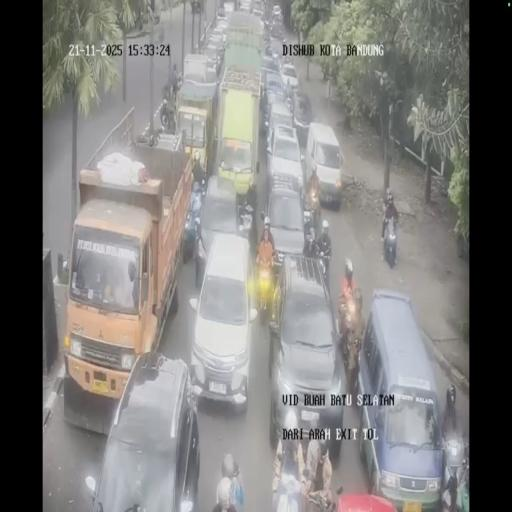3: (64, 130, 192, 418), (212, 66, 262, 208), (175, 69, 217, 176), (221, 8, 263, 79)
car: (356, 293, 442, 506), (268, 255, 344, 451), (196, 174, 244, 283), (263, 188, 308, 272), (305, 122, 344, 209), (266, 144, 304, 200), (266, 100, 297, 154), (292, 89, 314, 146), (203, 41, 224, 77), (280, 60, 298, 94), (260, 52, 280, 78), (270, 18, 284, 40), (216, 4, 228, 20), (252, 2, 263, 18), (239, 0, 251, 12), (272, 4, 281, 18)
truck: (254, 255, 278, 322), (236, 199, 256, 254), (382, 216, 398, 268), (306, 189, 322, 231), (316, 244, 332, 286), (159, 97, 173, 131), (169, 76, 180, 106), (262, 11, 272, 40)
